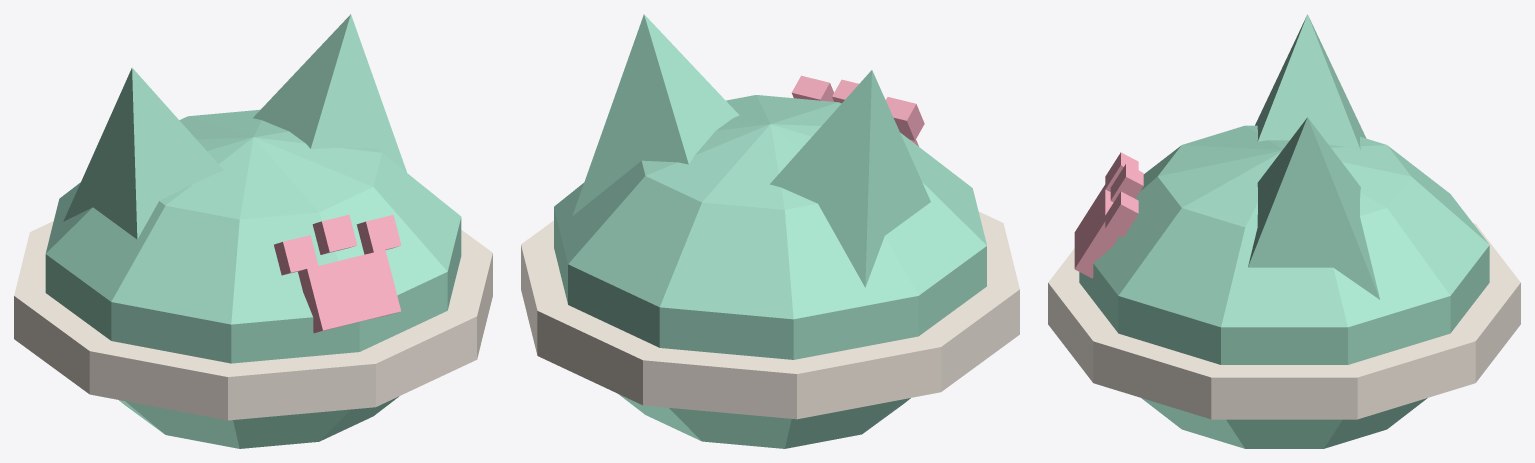
The model's file is CleanACat_Prop_HelperCap2.fbx.
3 renders of one model, left to right at view 1: azimuth 30°, elevation 25°; view 2: azimuth 150°, elevation 25°; view 3: azimuth 270°, elevation 25°, orthographic. The views are drawn at different scales.
Parts seen in each view (by area): view 1: CleanACat_Prop_HelperCap2; view 2: CleanACat_Prop_HelperCap2; view 3: CleanACat_Prop_HelperCap2.
Boxes of the visible parts, left/top/right/bottom form: CleanACat_Prop_HelperCap2: left=14, top=14, right=492, bottom=448; CleanACat_Prop_HelperCap2: left=521, top=14, right=1019, bottom=448; CleanACat_Prop_HelperCap2: left=1048, top=14, right=1520, bottom=448.
Size of the model in its own units: 1.09 by 0.9626 by 1.15.
Materials: 1 (1 with a texture image).
